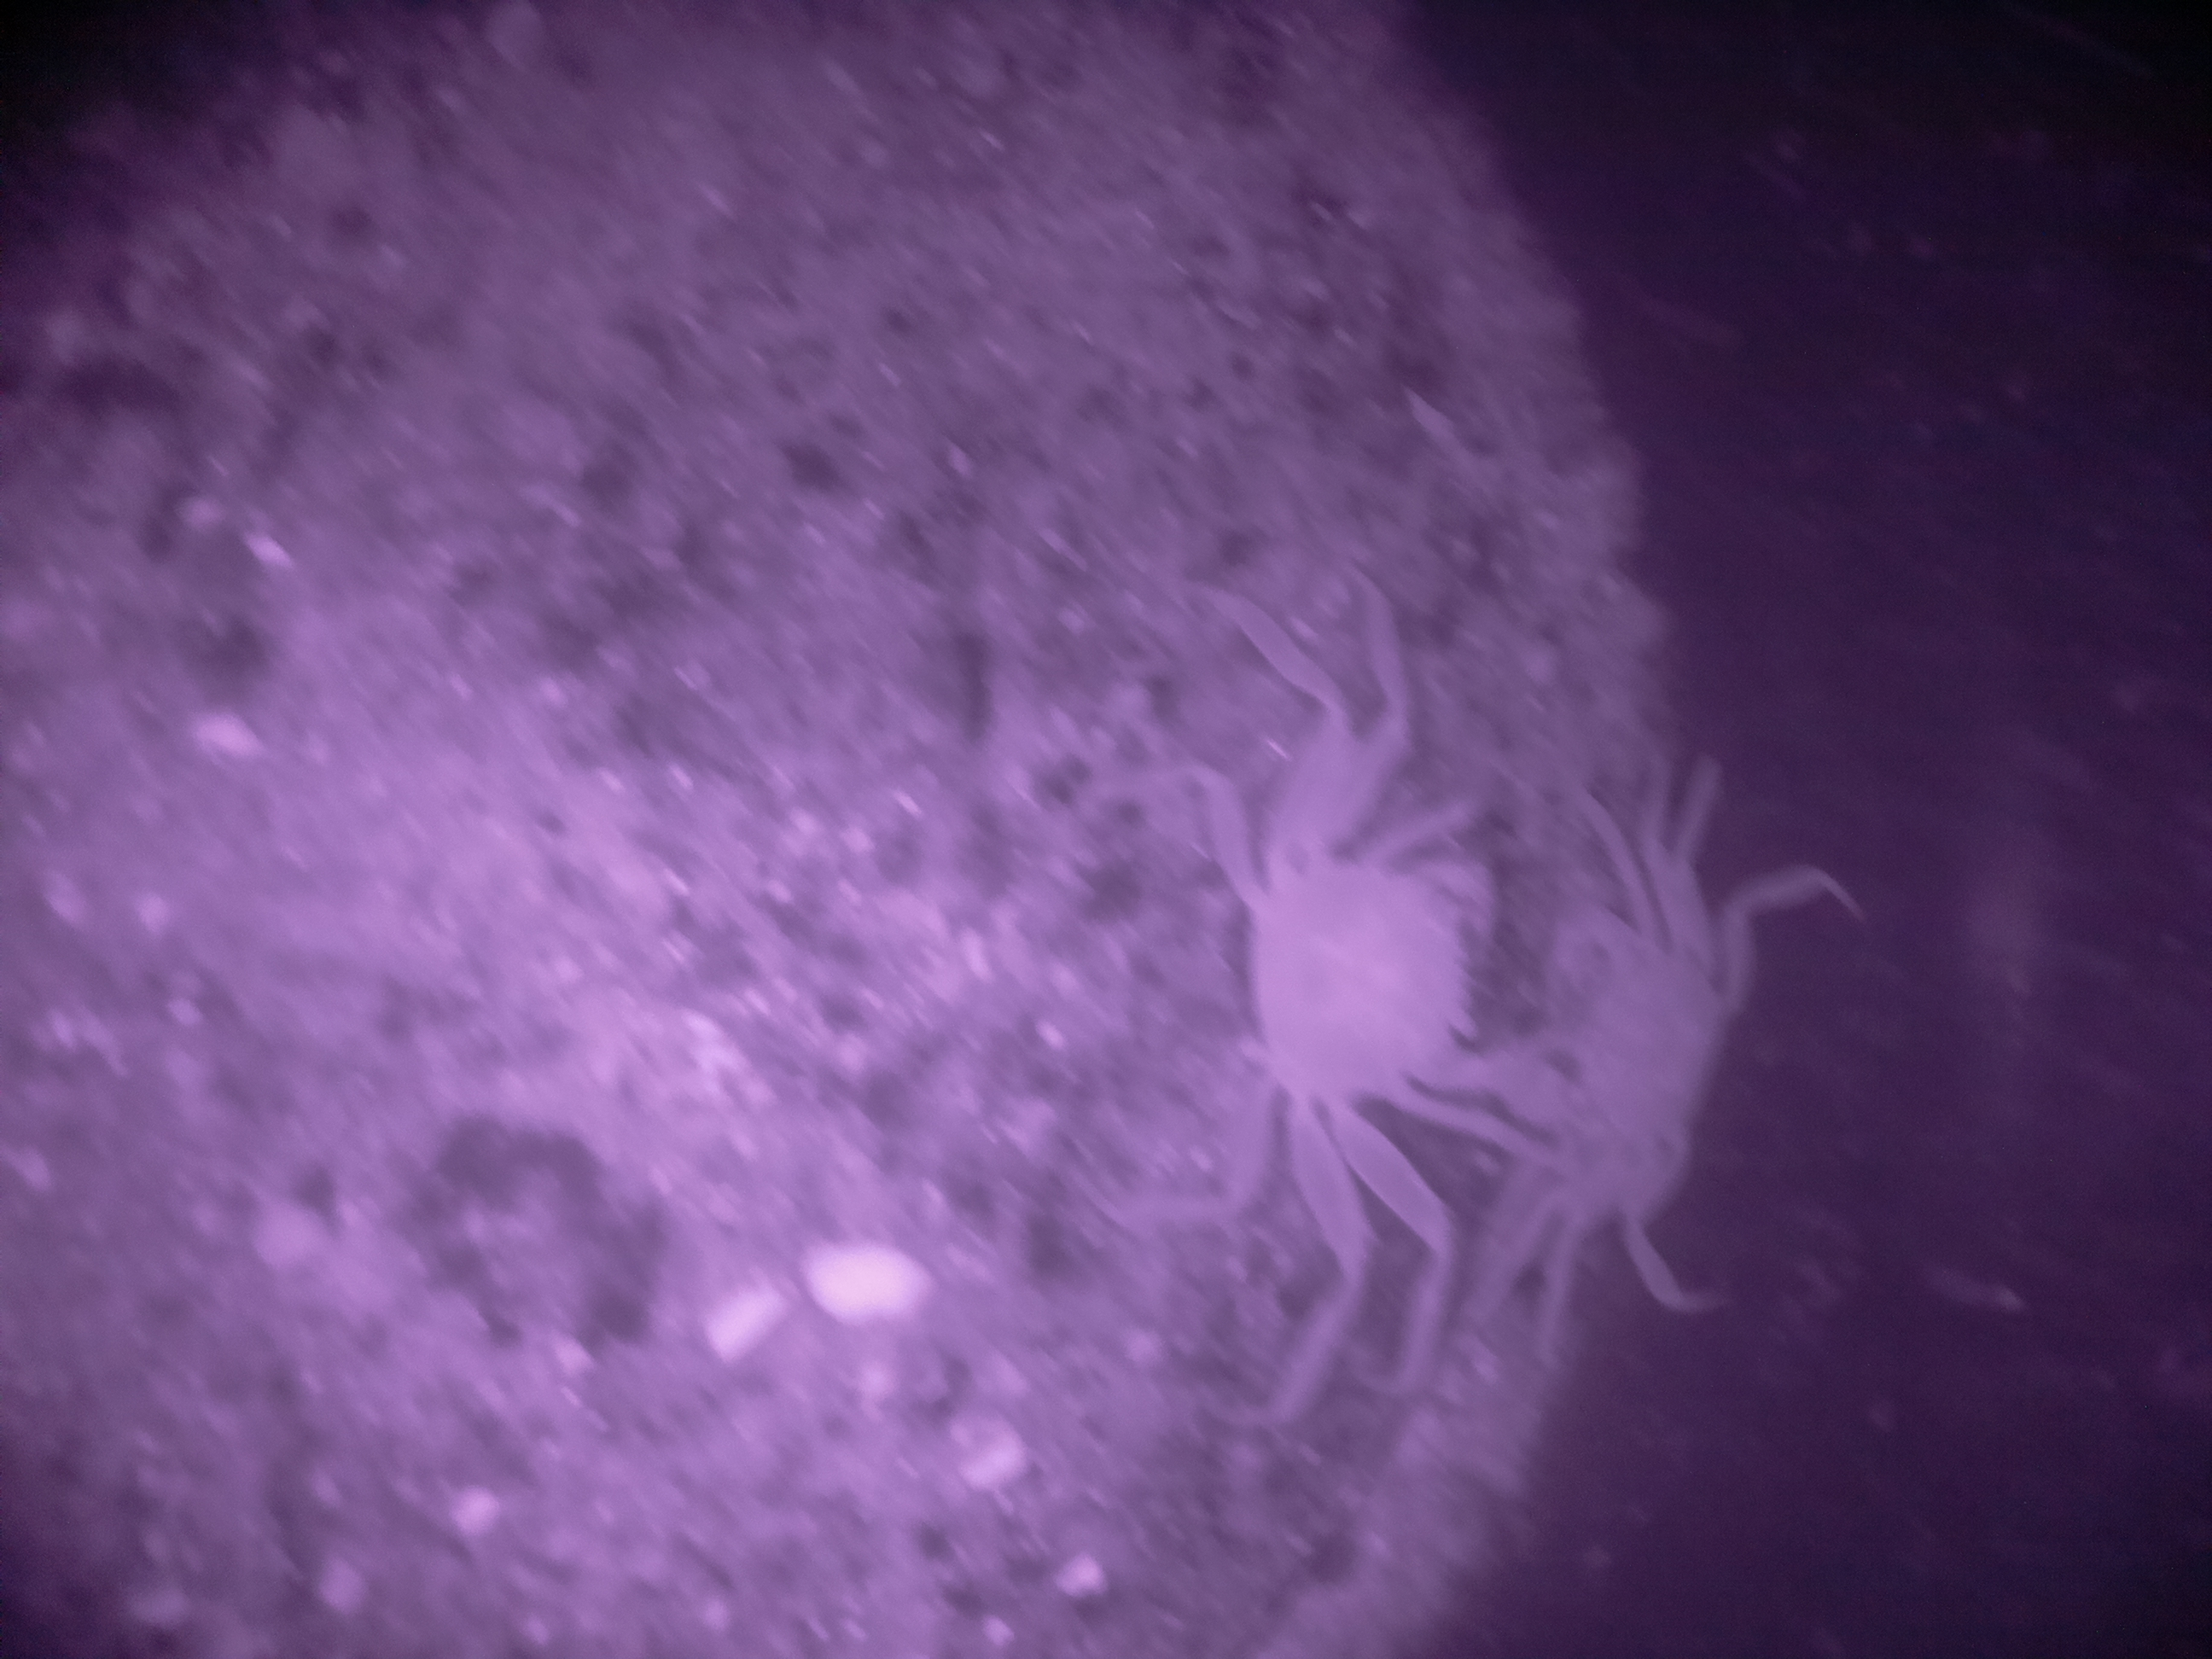Crab: (1157, 718, 1529, 1208)
